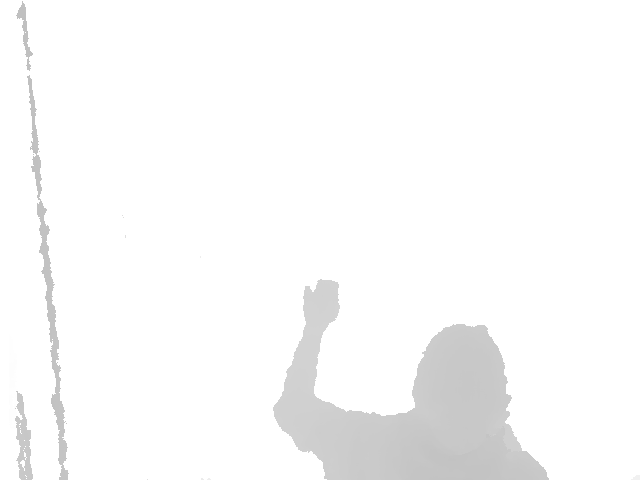hand: (302, 278, 341, 333)
head: (412, 324, 512, 431)
person: (272, 278, 551, 480)
